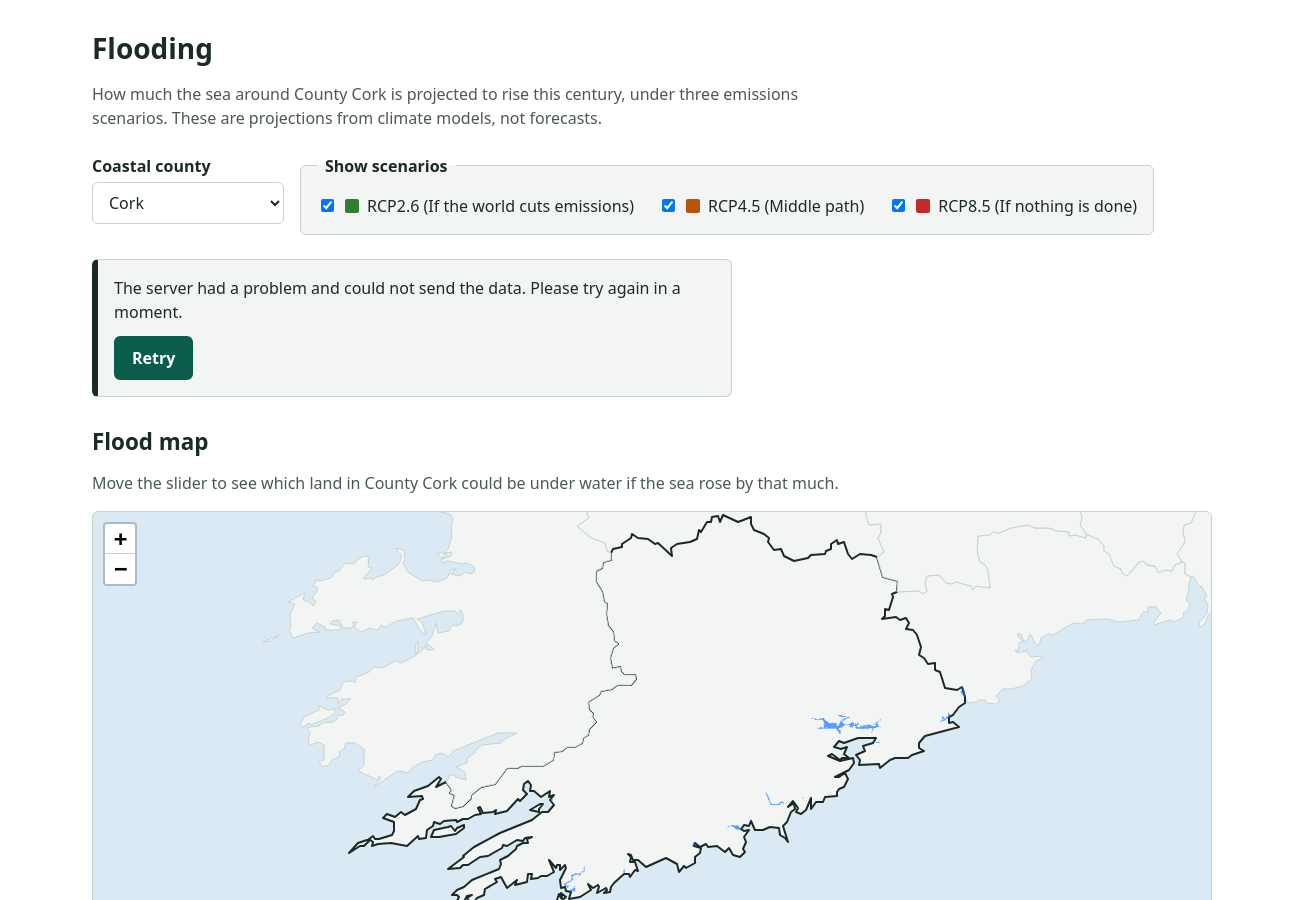
it: SeaLevel page › shows an error with Retry, and loads again when Retry is pressed
Click the button "Retry". click: (154, 358)
box: [114, 336, 193, 380]
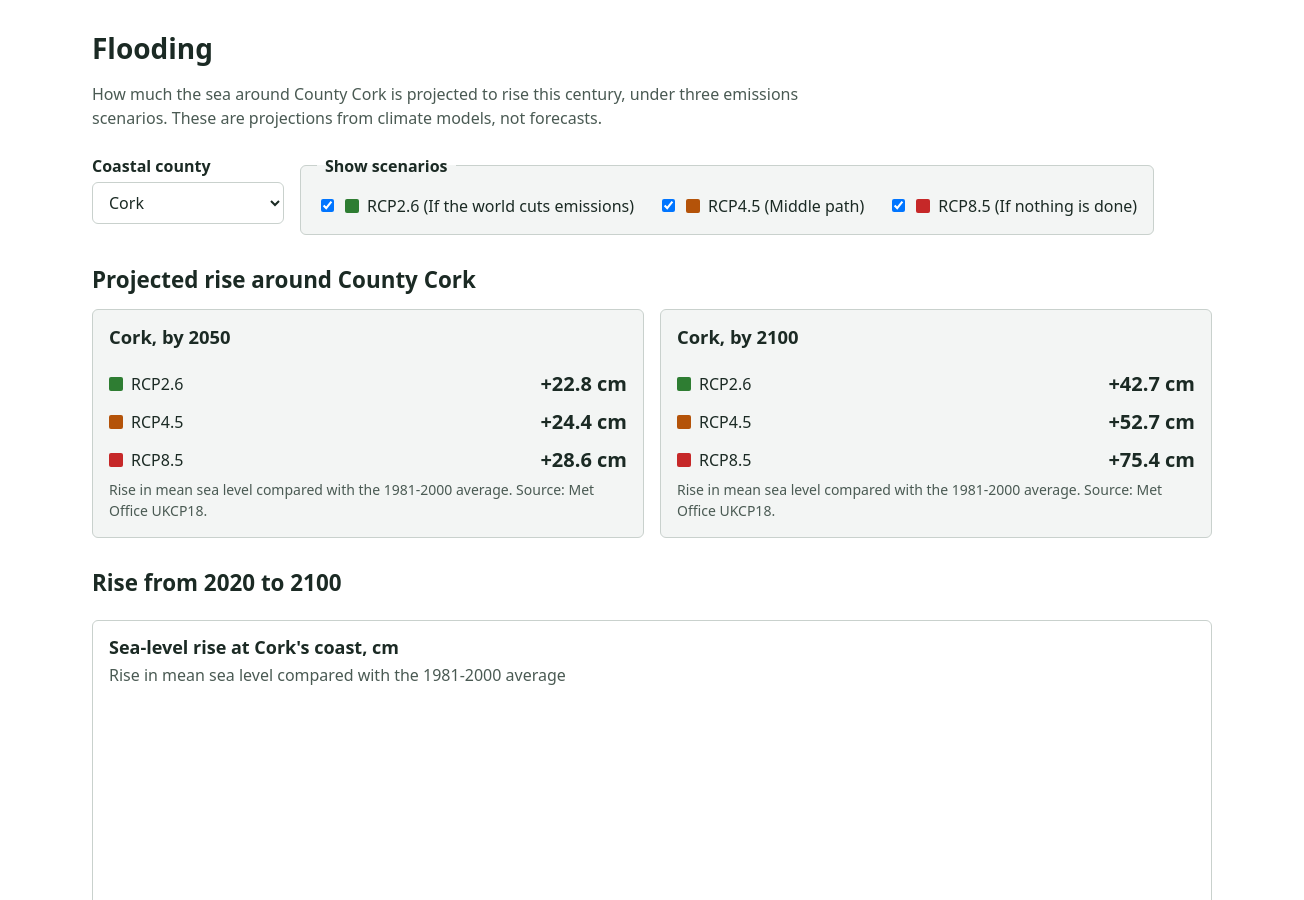
Expected: the element "Cork, by 2050" is shown, [92, 310, 644, 538]
